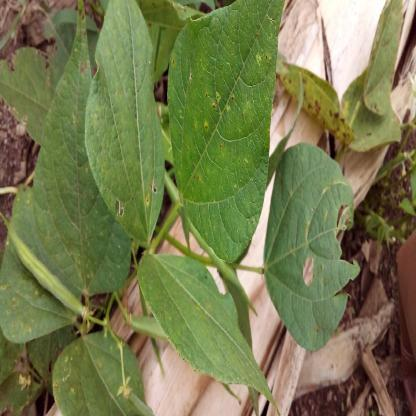Beans_Rust: (167, 0, 283, 261), (86, 0, 161, 259), (260, 143, 353, 351)
